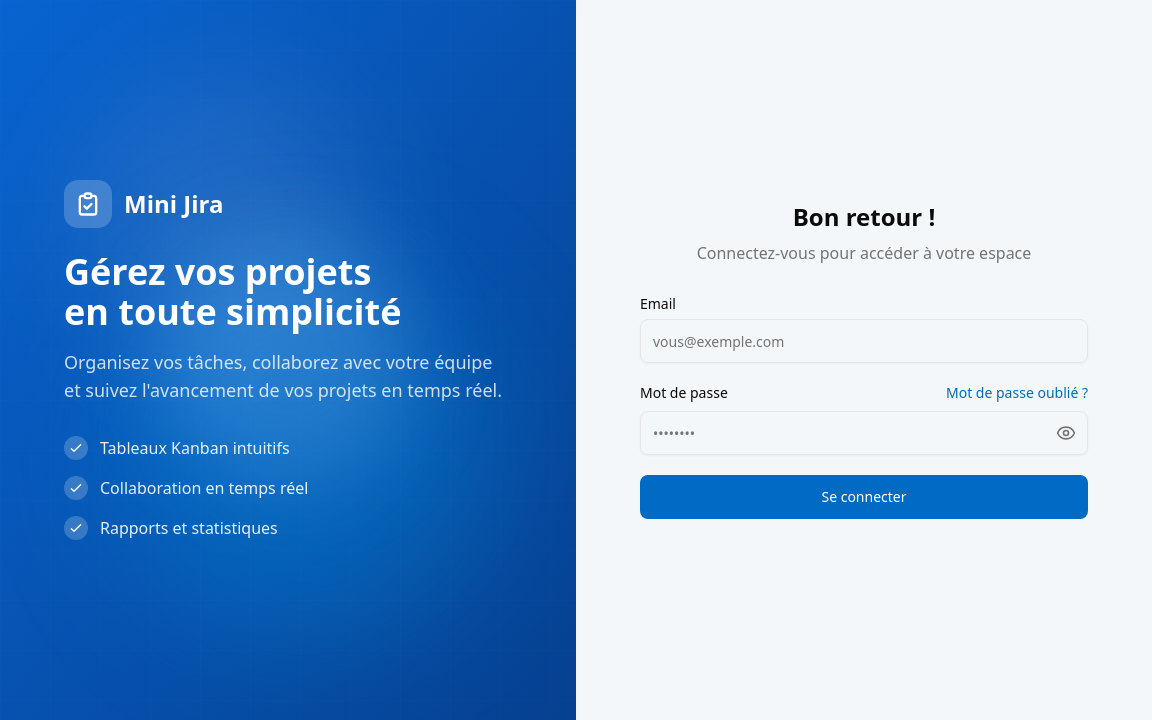
Test case: Login › affiche le message d'erreur serveur en cas d'échec
Type "active@test.local" into the field labelled "Email".
click(864, 341); type("active@test.local")  # box x1=640 y1=319 x2=1088 y2=363
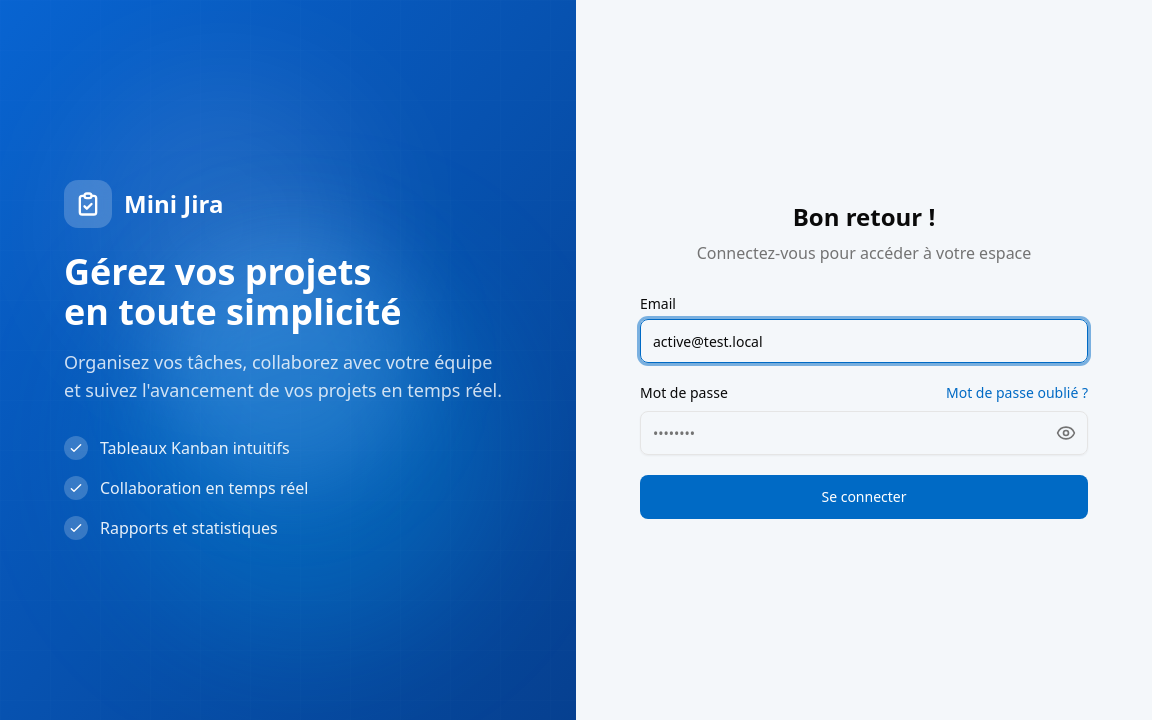
Type "wrong-password" into the password field labelled "Mot de passe".
click(864, 433); type("wrong-password")  # box x1=640 y1=411 x2=1088 y2=455
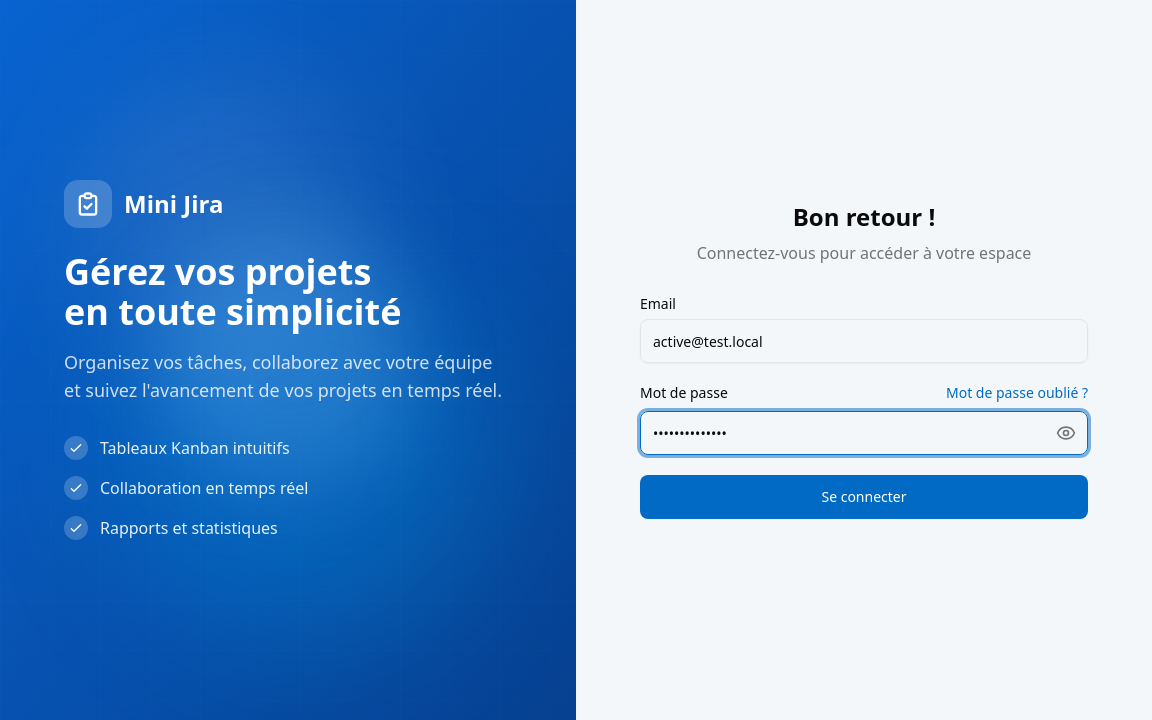
Click the button "Se connecter".
click(864, 497)  # box x1=640 y1=475 x2=1088 y2=519
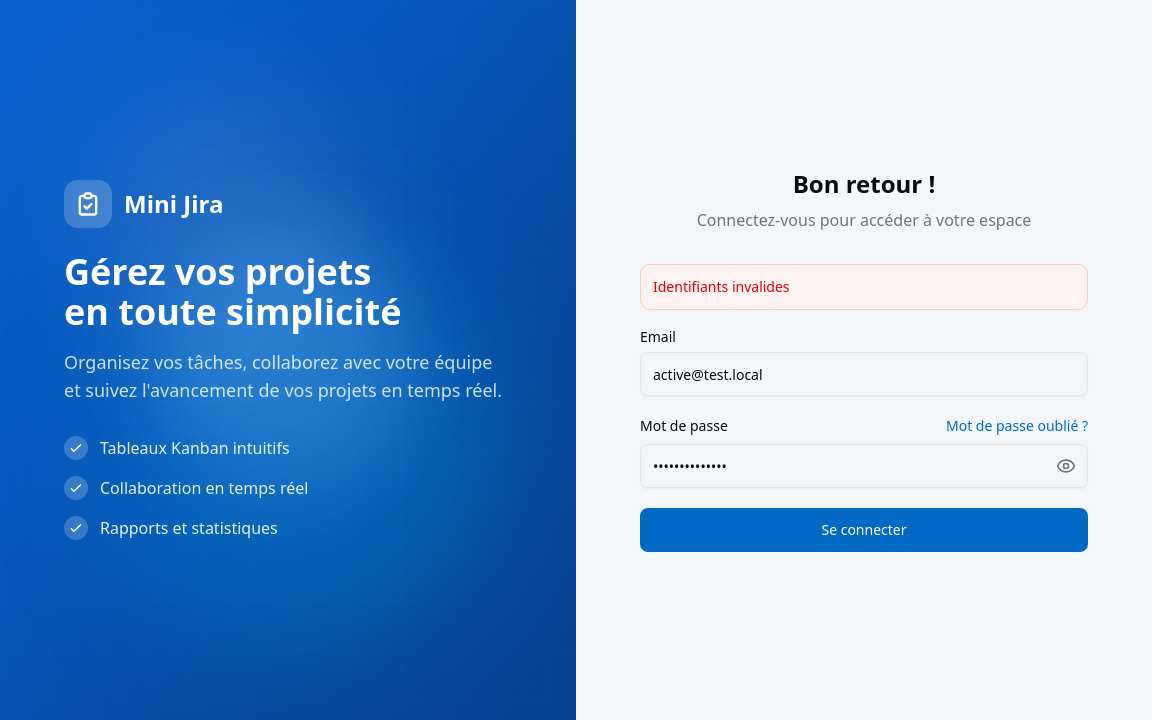
Expected: the text "Identifiants invalides" is shown, x1=640 y1=264 x2=1088 y2=310
